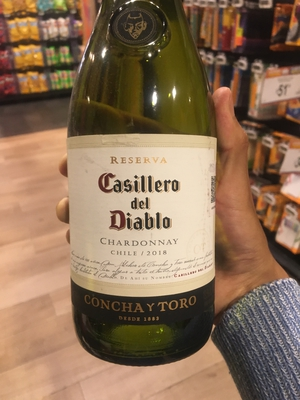casillero del diablo chardonnay: (63, 19, 233, 374)
